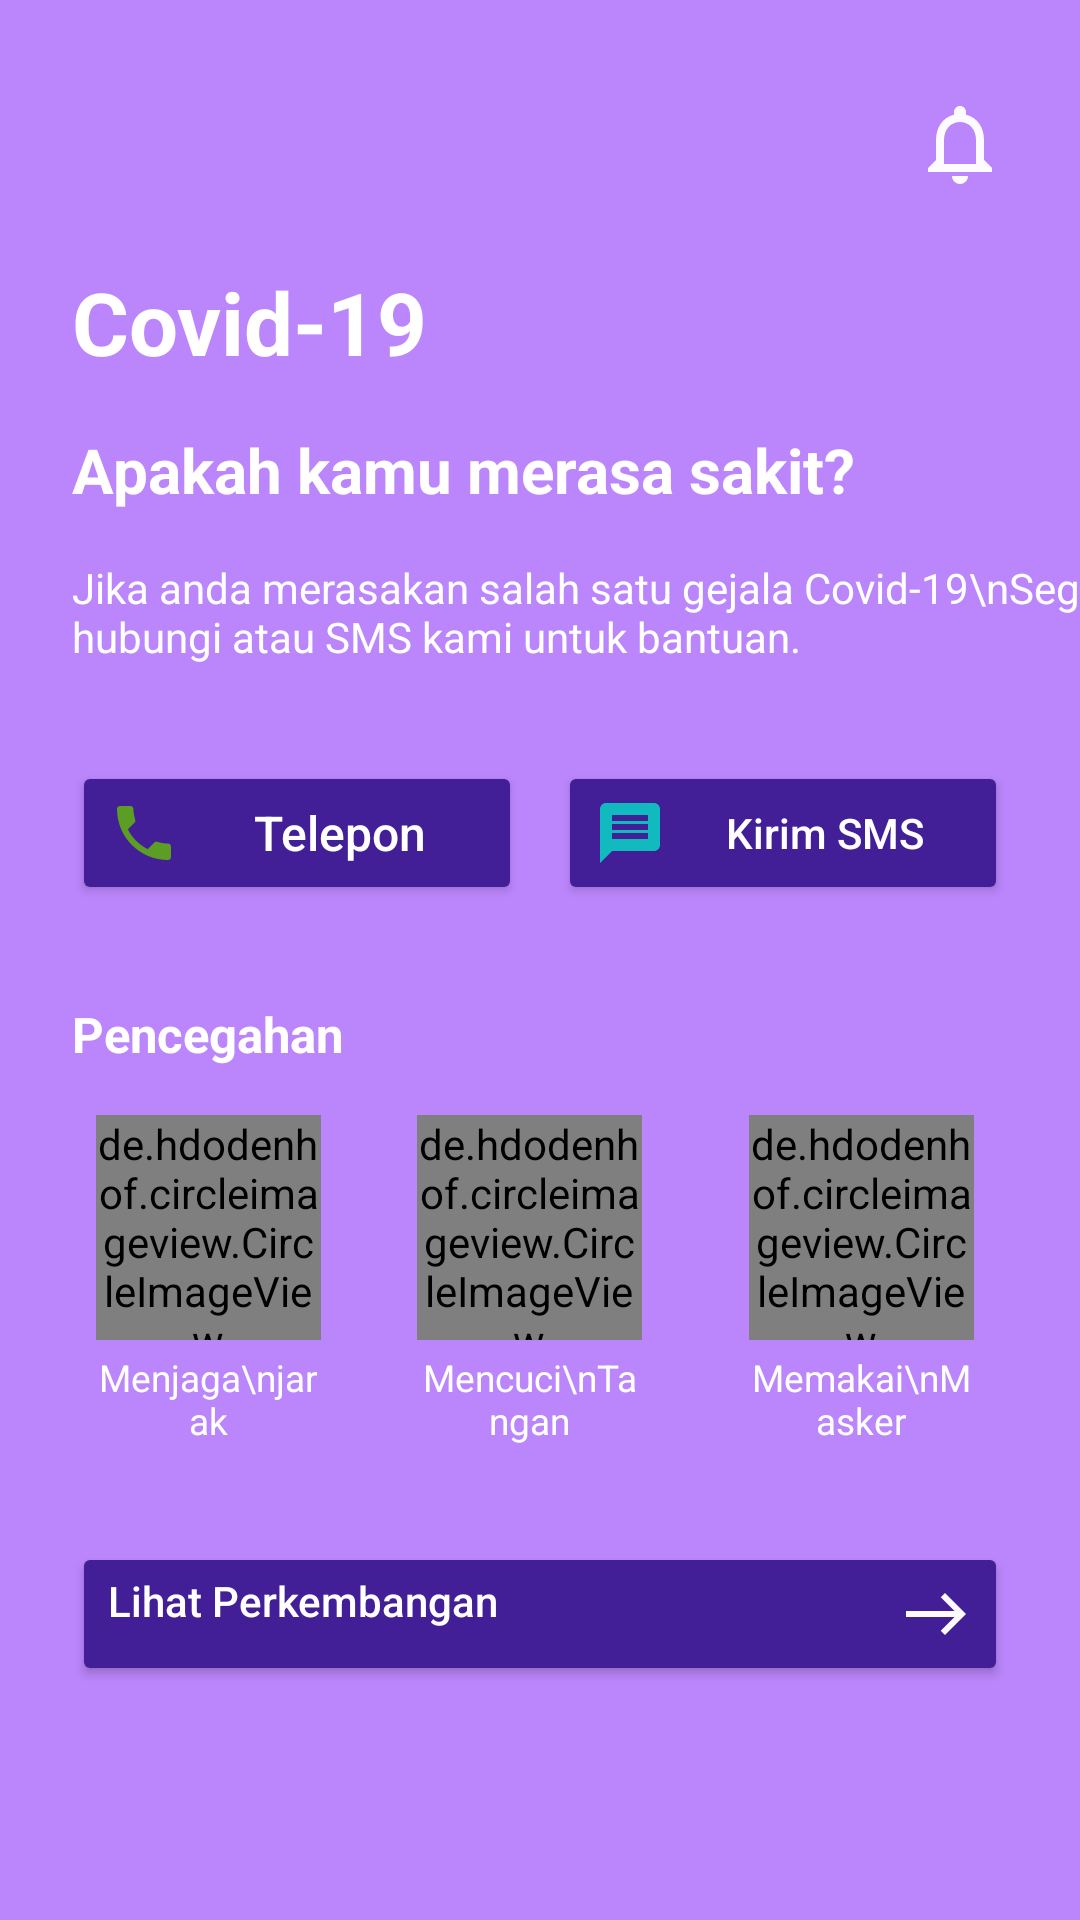

Named icons in this screenshot (1080 × 1920) and their centers, [x,y]:
notifications none: [960,145]
